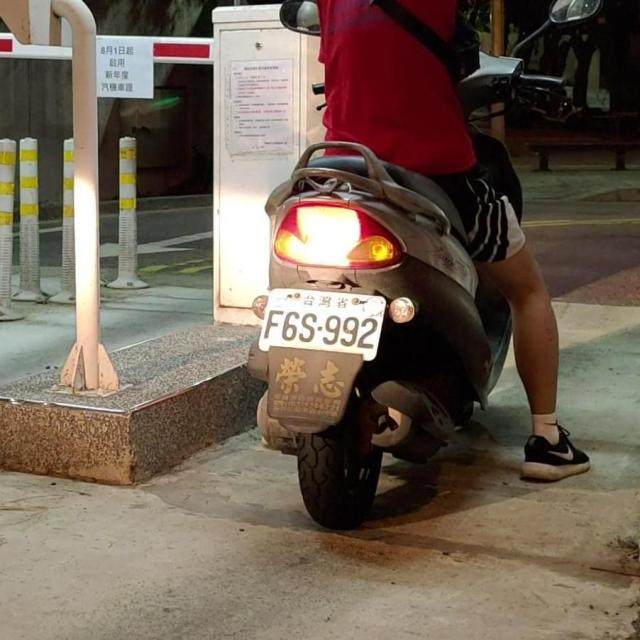W: (255, 281, 390, 364)
